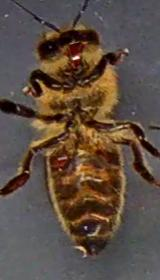varroa_mite: (46, 146, 72, 176)
